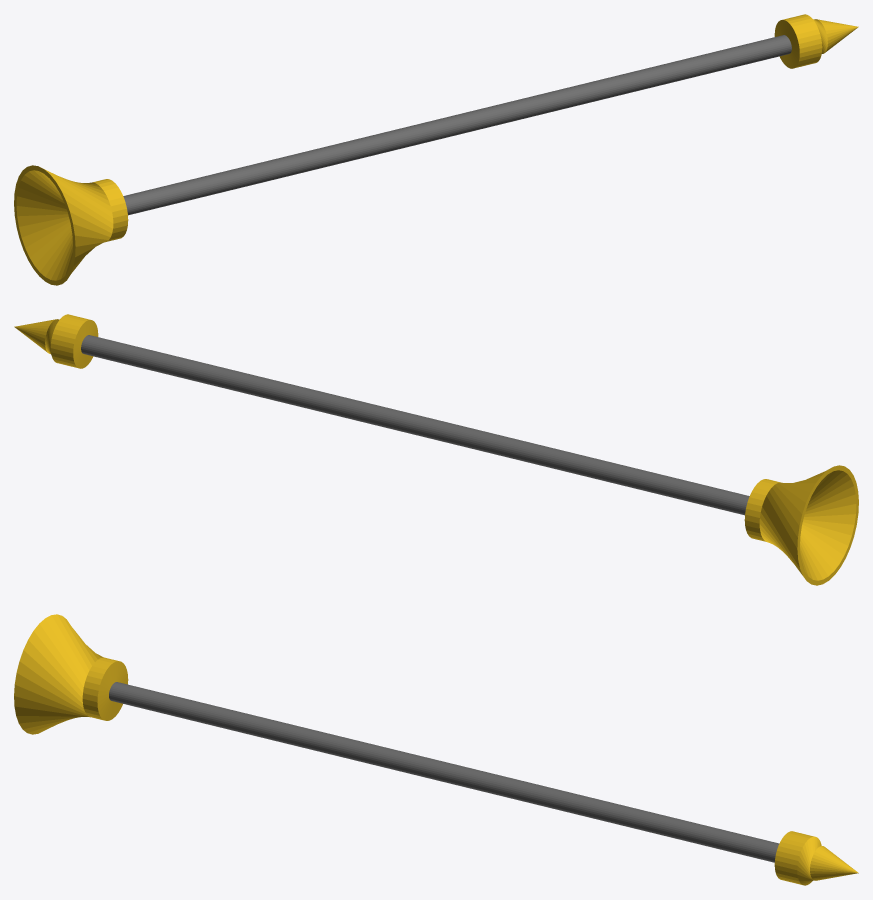
File: dart_needle.fbx
3 views of the same model, one above another, from view 1: azimuth 30°, elevation 25°; view 2: azimuth 150°, elevation 25°; view 3: azimuth 330°, elevation 25° (orthographic).
Visible parts, largest first — view 1: Cone; view 2: Cone; view 3: Cone.
Part boxes in pixels (x1,y1,x2,y2): Cone: (14,14,858,285); Cone: (14,314,858,585); Cone: (14,614,858,885).
Bounding box in the file's own units: 215 × 28.13 × 28.13.
